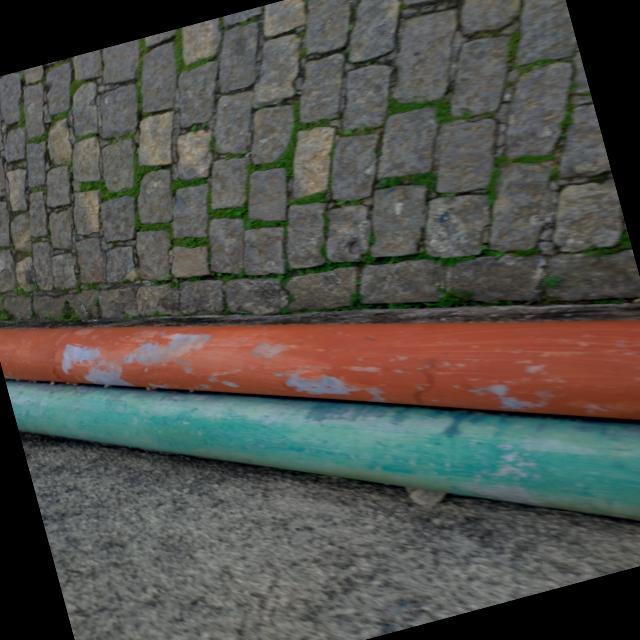gas: (5, 380, 640, 520), (0, 317, 640, 420)
